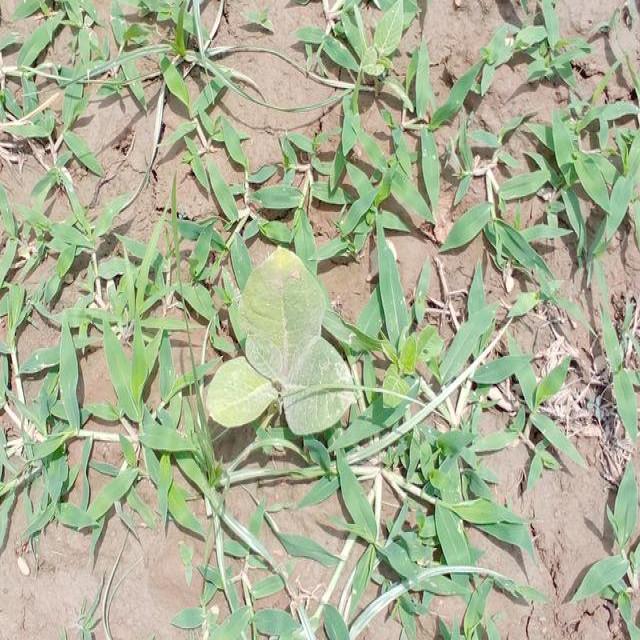crop: (200, 256, 358, 426)
